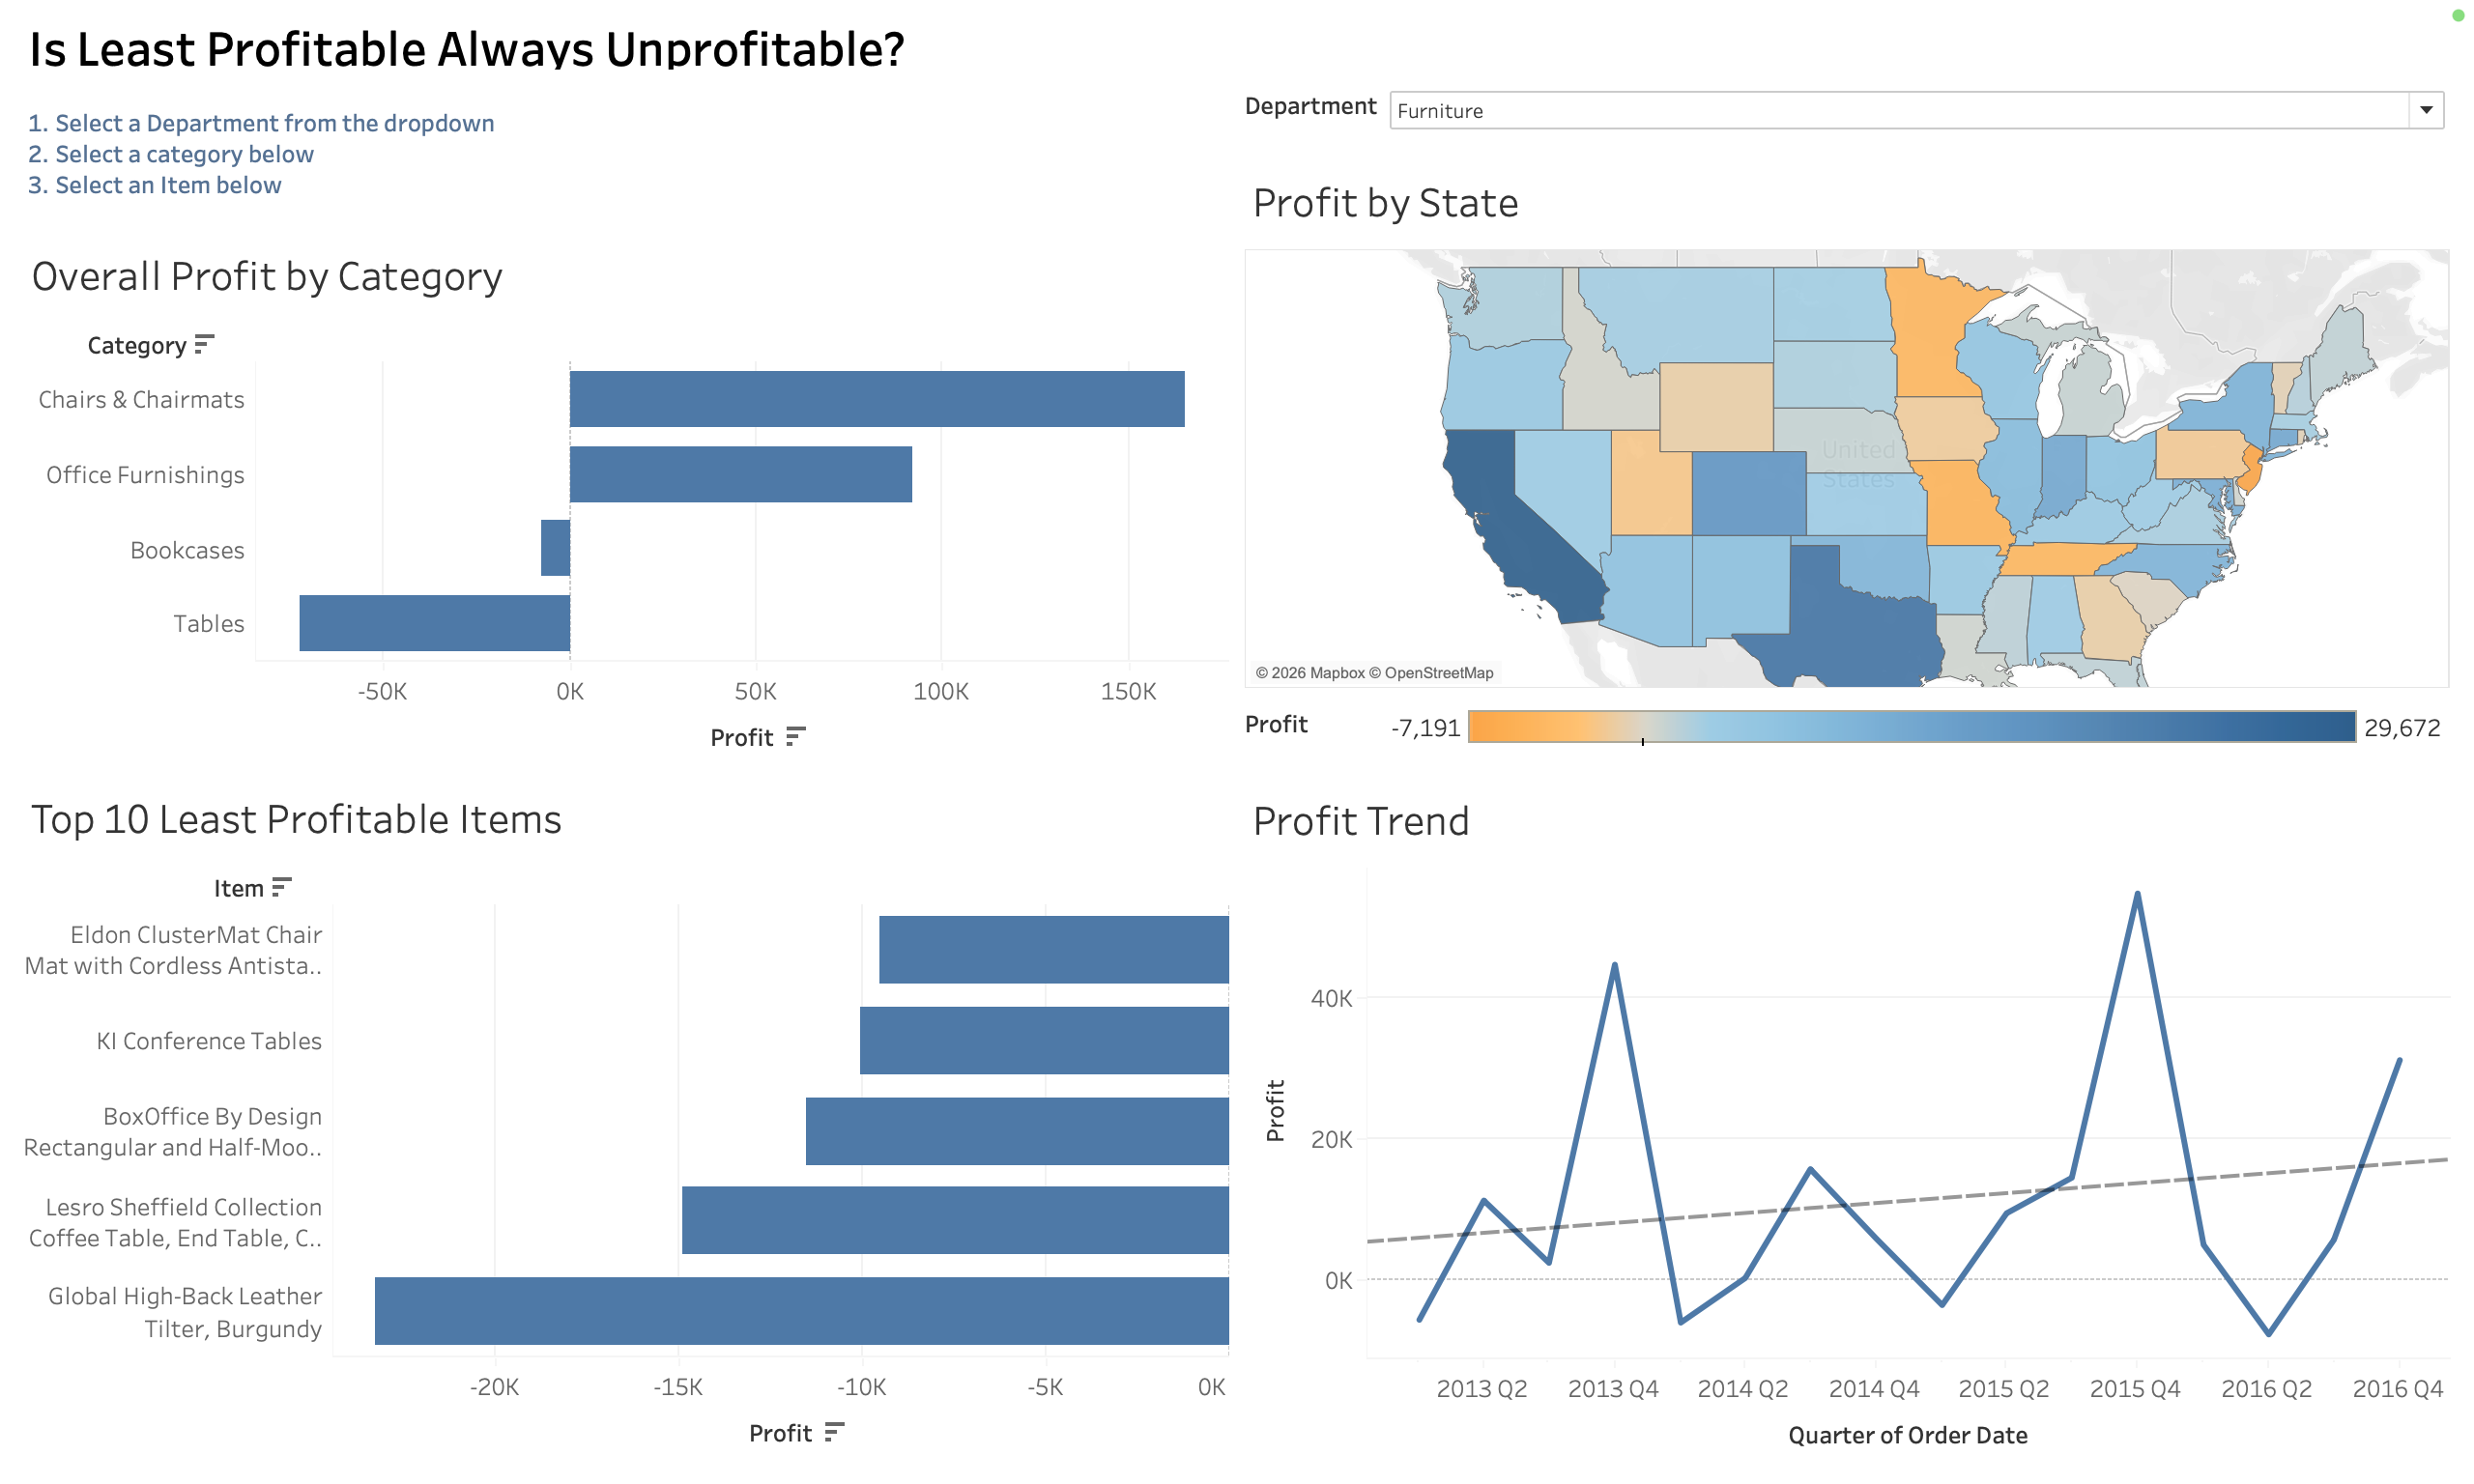

This screenshot's page, from the dashboard's own definition file:
{"tool":"tableau","page":{"name":"Is Least Profitable Always Unprofitable?","canvas":[1000,1000],"units":"permille","ordinal":0},"visuals":[{"type":"title","box":[7.5,13.2,985,53]},{"type":"text","box":[7.5,66.2,492.5,102.4]},{"type":"filter","title":"Overall Profit by Category","param":"[federated.1364pxz0jvvs7l192vaca0oywb1r].[none:Department:nk]","box":[500,66.2,492.5,52.9]},{"type":"worksheet","title":"Profit by State","mark":"Multipolygon","box":[500,119.1,492.5,355.2]},{"type":"worksheet","title":"Overall Profit by Category","mark":"Bar","rows":["Category"],"cols":["Profit"],"box":[7.5,168.6,492.5,357.8]},{"type":"legend","title":"Profit by State","param":"[federated.1364pxz0jvvs7l192vaca0oywb1r].[sum:Profit:qk]","box":[500,474.4,492.5,52.9]},{"type":"worksheet","title":"Top 10 Least Profitable Items","mark":"Bar","rows":["Item"],"cols":["Profit"],"box":[7.5,526.5,492.5,460.3]},{"type":"worksheet","title":"Profit Trend","mark":"Line","rows":["Profit"],"cols":["Order Date"],"box":[500,527.3,492.5,459.5]}]}

Visuals, with their boxes on the dashboard's canvas, which has no fixed pixel size, in thousandths of its width and height (x1, y1, x2, y2). These are canvas units, not pixel positions in the 2474x1484 screenshot, which may show the page scaled, cropped or inside an application window:
title: 8/13/992/66
text: 8/66/500/169
"Overall Profit by Category" filter: 500/66/992/119
"Profit by State" worksheet (Multipolygon marks): 500/119/992/474
"Overall Profit by Category" worksheet (Bar marks): 8/169/500/526
"Profit by State" legend: 500/474/992/527
"Top 10 Least Profitable Items" worksheet (Bar marks): 8/526/500/987
"Profit Trend" worksheet (Line marks): 500/527/992/987
